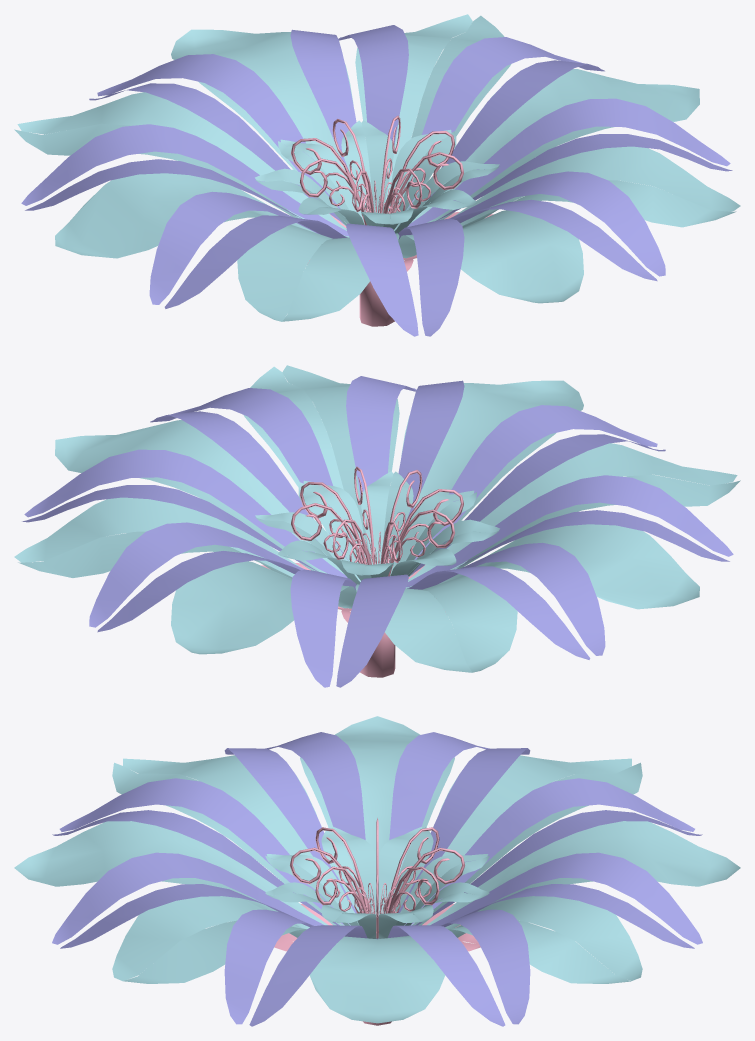
File: flower_small.fbx
3 views of the same model, one above another, from view 1: azimuth 30°, elevation 25°; view 2: azimuth 150°, elevation 25°; view 3: azimuth 270°, elevation 25° (orthographic). The views are drawn at different scales.
Parts seen in each view (by area): view 1: Ground_Flower_Medium; view 2: Ground_Flower_Medium; view 3: Ground_Flower_Medium.
Part boxes in pixels (x1,y1,x2,y2): Ground_Flower_Medium: (14,14,740,336); Ground_Flower_Medium: (14,365,740,687); Ground_Flower_Medium: (14,716,740,1026).
Bounding box in the file's own units: 668 × 181 × 668.
